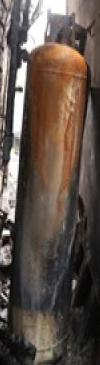cylinder: (1, 1, 100, 365)
